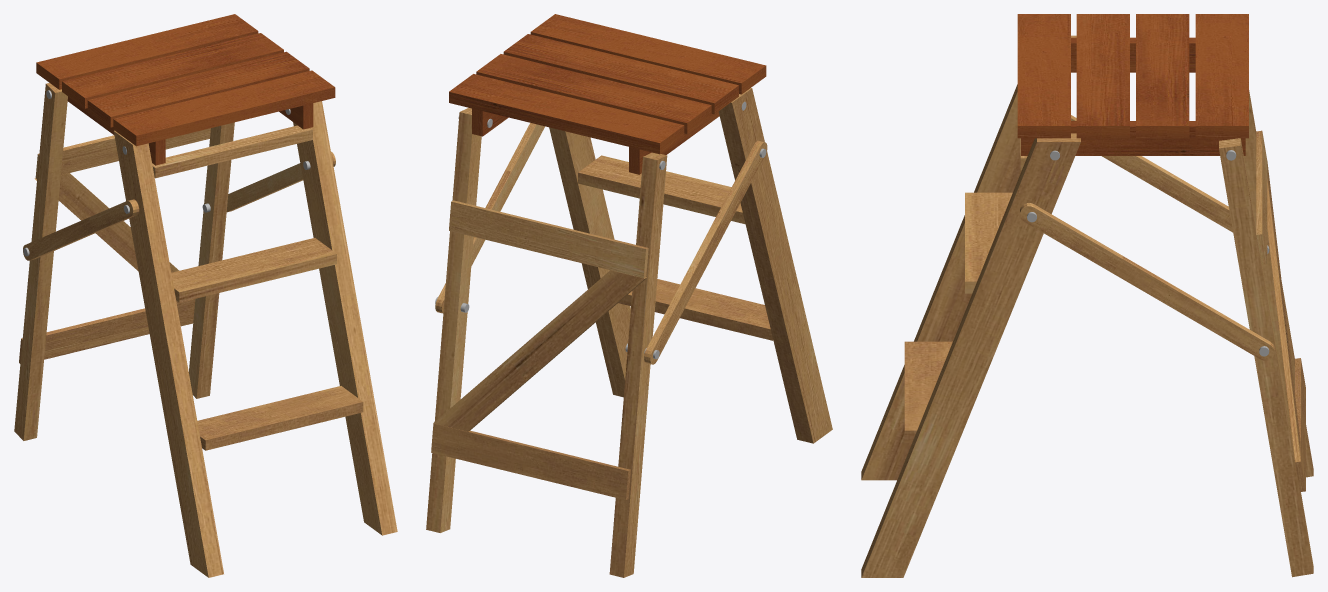
The model's file is step-ladder-wood.glb.
3 views of the same model, side by side, from view 1: azimuth 30°, elevation 25°; view 2: azimuth 150°, elevation 25°; view 3: azimuth 270°, elevation 25° (orthographic). The views are drawn at different scales.
Size of the model in its own units: 45.55 by 82.71 by 74.52.
2 materials, 1 textured.
